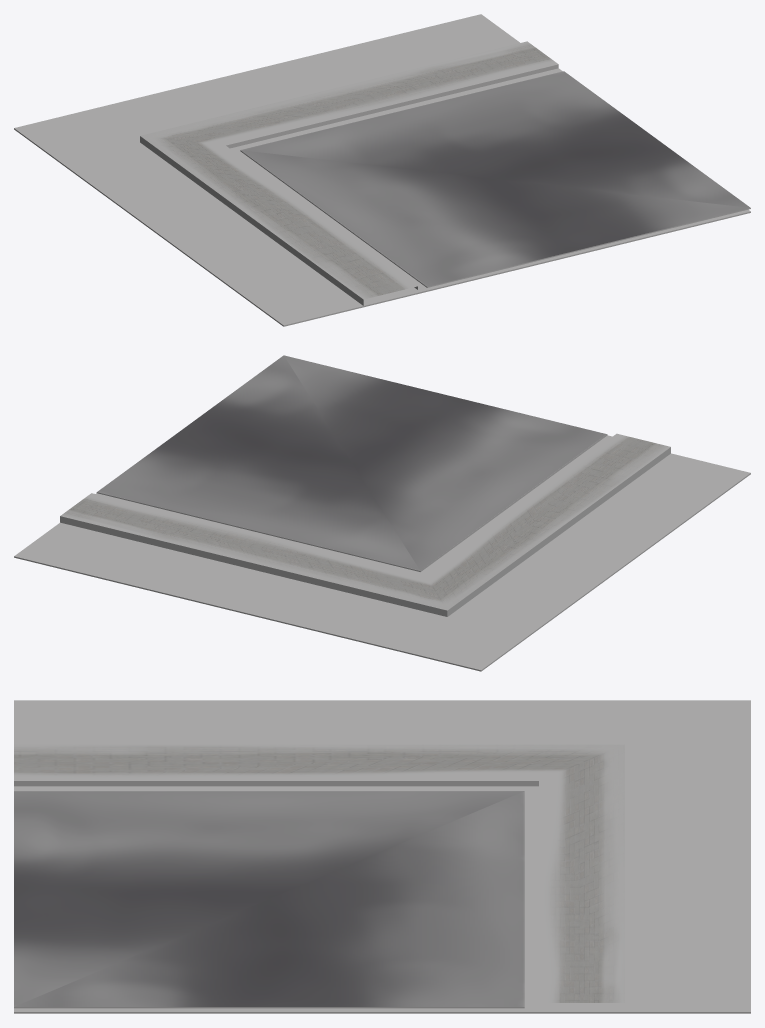
File: CarPark_Cap.fbx
3 views of the same model, one above another, from view 1: azimuth 30°, elevation 25°; view 2: azimuth 150°, elevation 25°; view 3: azimuth 270°, elevation 25° (orthographic). The views are drawn at different scales.
Visible parts, largest first — view 1: Road_10X52, Road_10X31; view 2: Road_10X52, Road_10X31; view 3: Road_10X52, Road_10X31.
Boxes of the visible parts, bbox=[...] form: Road_10X52: bbox=[140, 41, 750, 305]; Road_10X31: bbox=[14, 14, 750, 326]; Road_10X52: bbox=[60, 355, 670, 616]; Road_10X31: bbox=[14, 453, 750, 671]; Road_10X52: bbox=[14, 744, 624, 1008]; Road_10X31: bbox=[14, 700, 750, 1013].
Size of the model in its own units: 10 by 0.1599 by 10.
